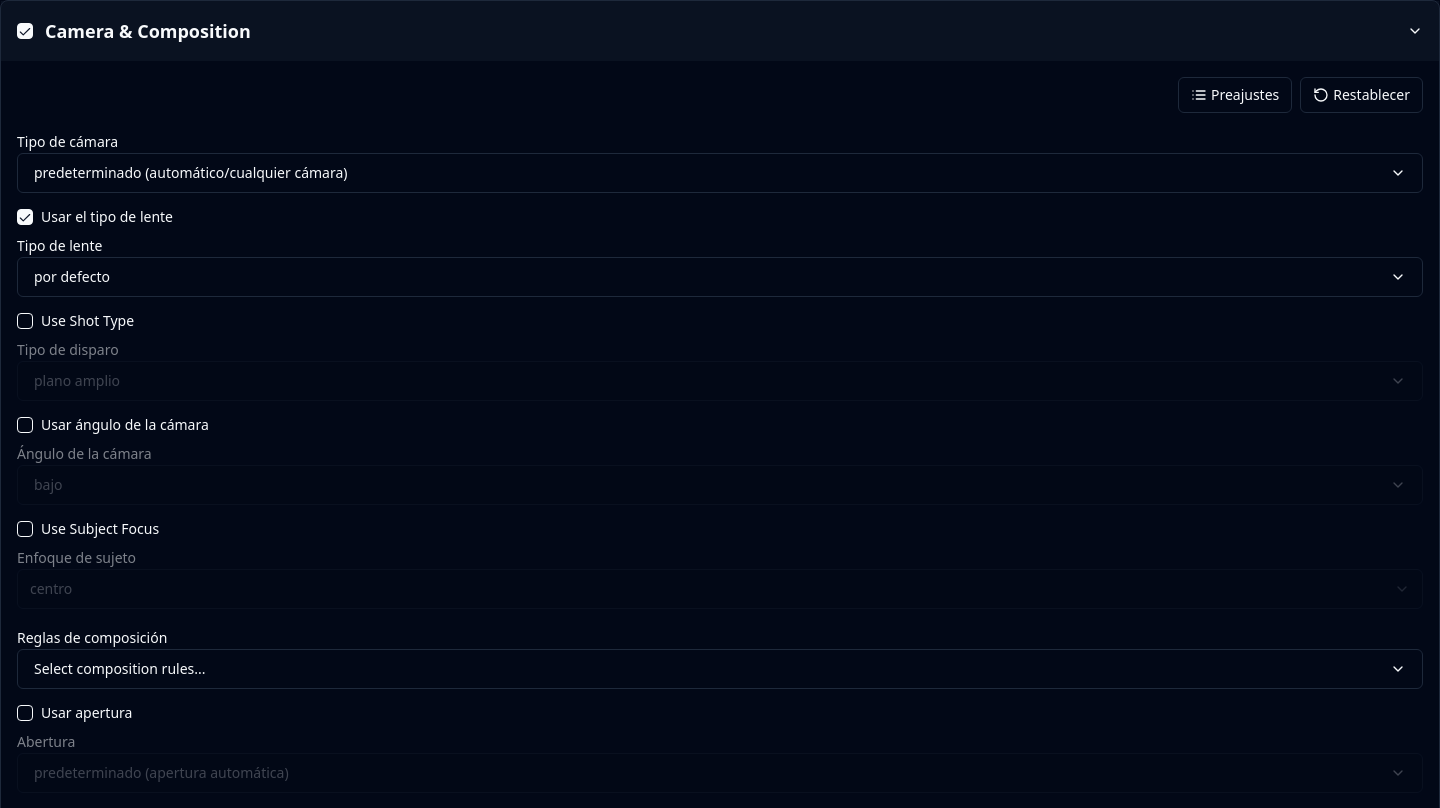
CameraCompositionSection › lens type dropdown localizes options when language changes
Click the button "por defecto": x=72, y=276 top-left (17, 257), bottom-right (1423, 297)
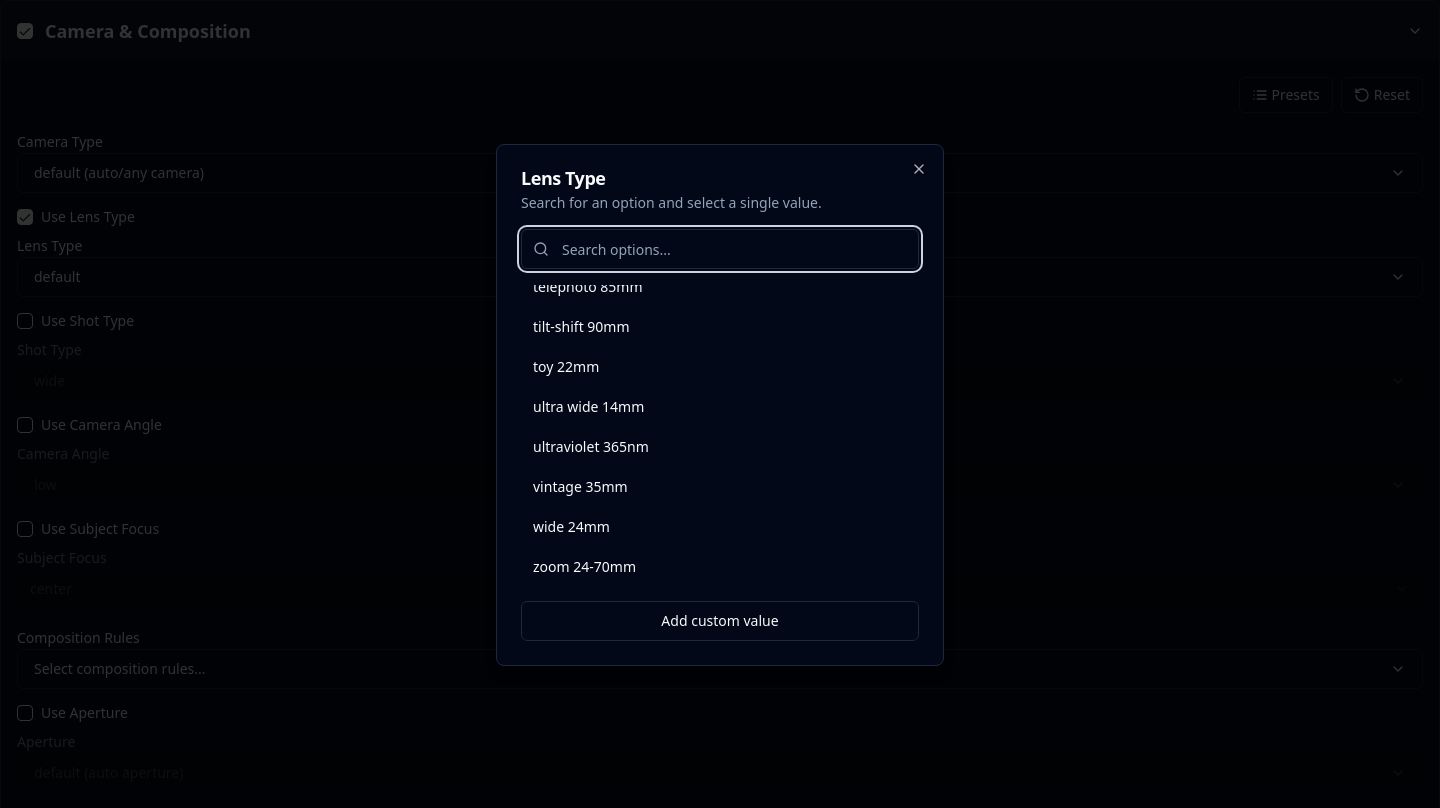
Expected: the button named "gran angular 24mm" is shown, top-left (521, 509), bottom-right (919, 545)
